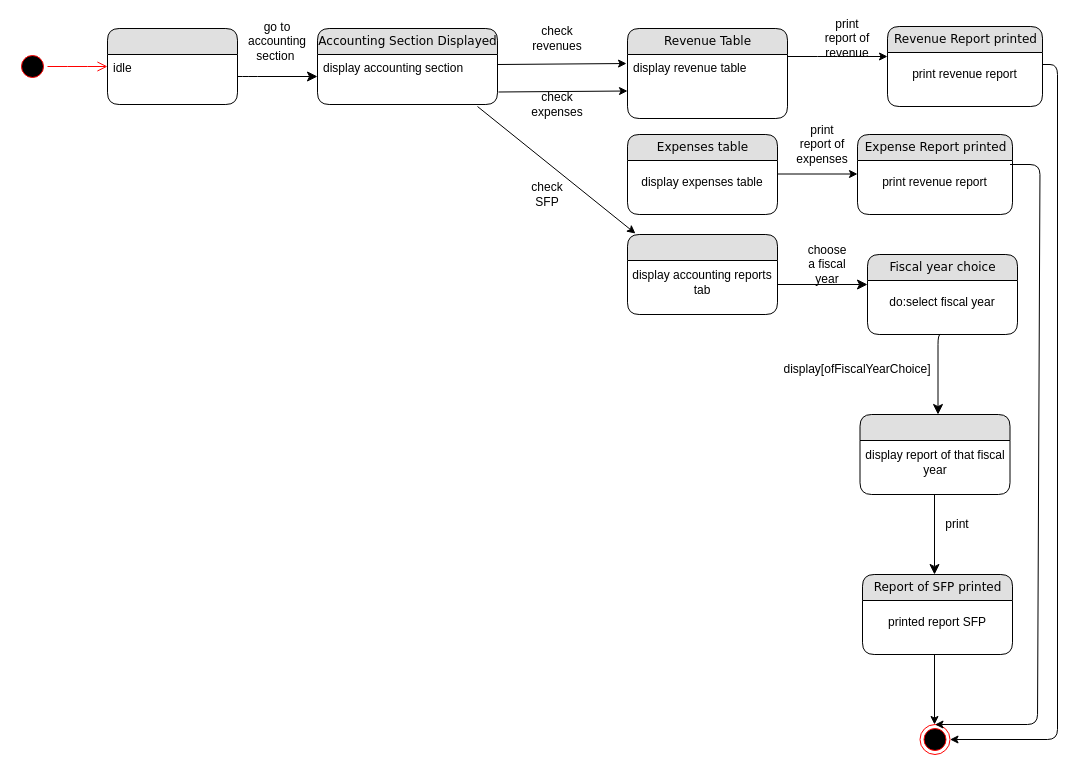
This 1083x772 diagram has some shape labels left out. The box of each missing label's shape, as (x1, y1, x2, y2) in pixels:
Accounting Reports SFP: (626, 234, 778, 314)
Dashboard: (106, 28, 238, 104)
Report of SFP displayed: (859, 414, 1010, 494)
